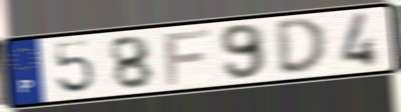4: (337, 9, 380, 71)
5: (52, 38, 99, 96)
8: (107, 34, 156, 91)
9: (218, 21, 271, 82)
D: (273, 16, 330, 77)
F: (162, 27, 214, 88)
